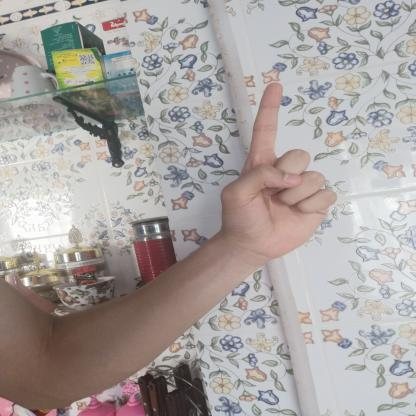BAA: (204, 70, 346, 269)
